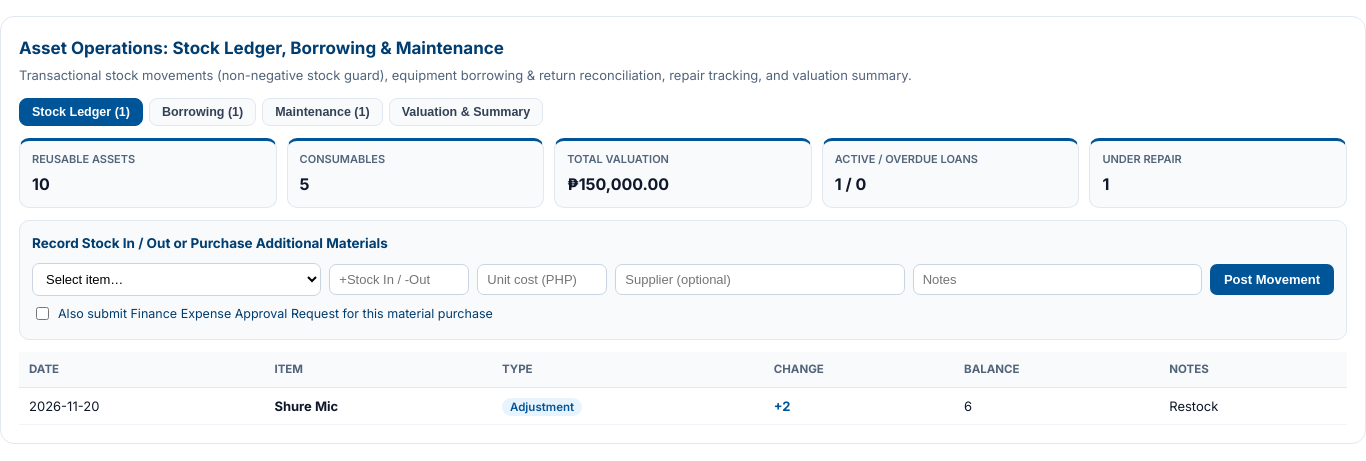
Test: InventoryOperationsPanel › renders stock ledger, borrowing and maintenance tabs cleanly
Expected: the text "Restock" is shown, [1159,387,1347,425]
Click the button "Borrowing (1)".
click(203, 112)  # box [149,98,256,126]
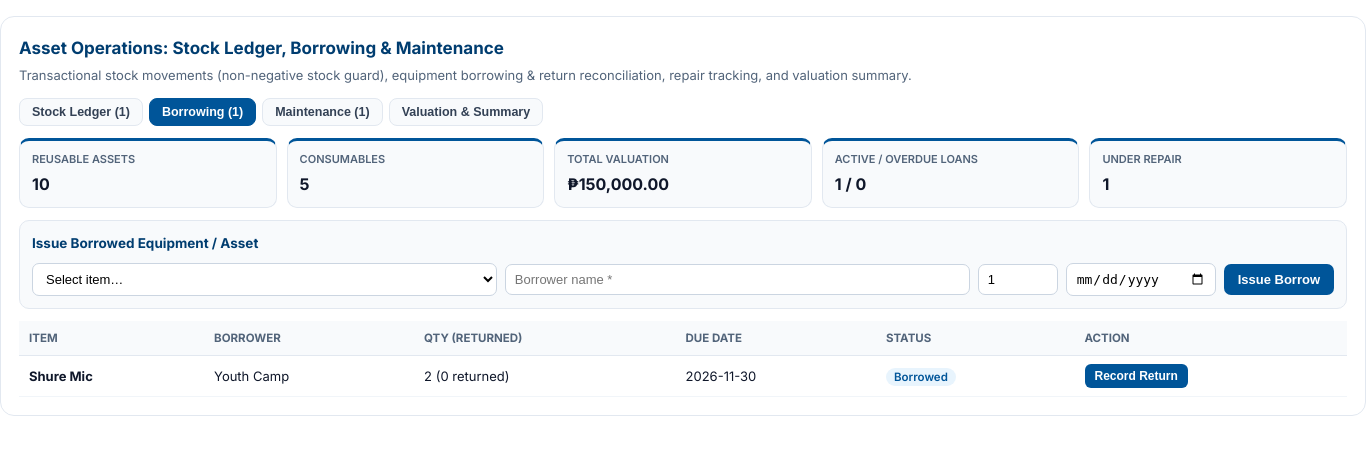
Now the text "Youth Camp" is shown, box [204,356,414,397]
Click the button "Maintenance (1)".
click(322, 112)  # box [262,98,383,126]
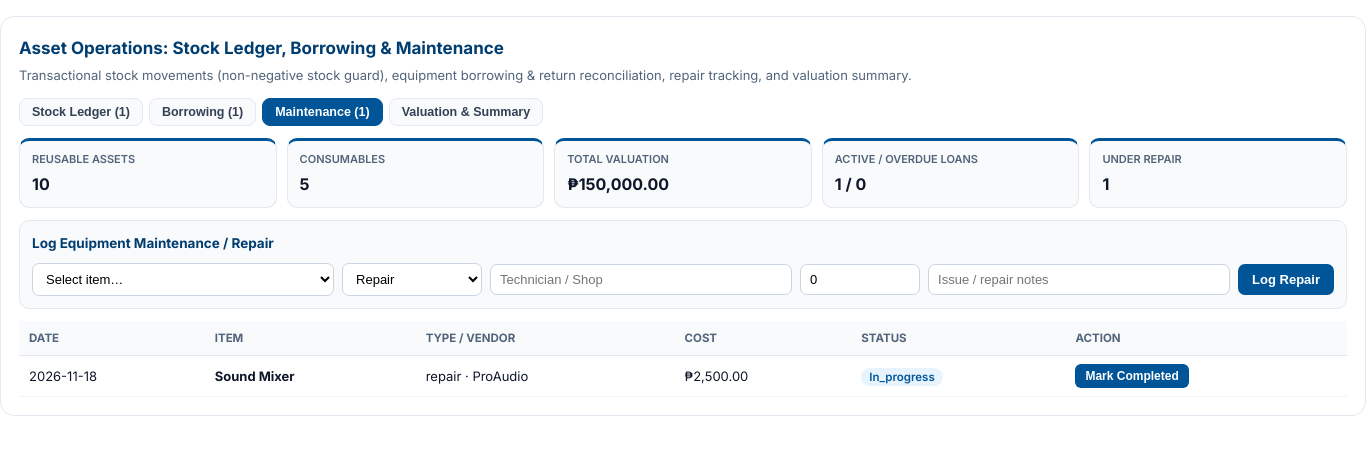
Now the text "Sound Mixer" is shown, box [215,368,295,384]
